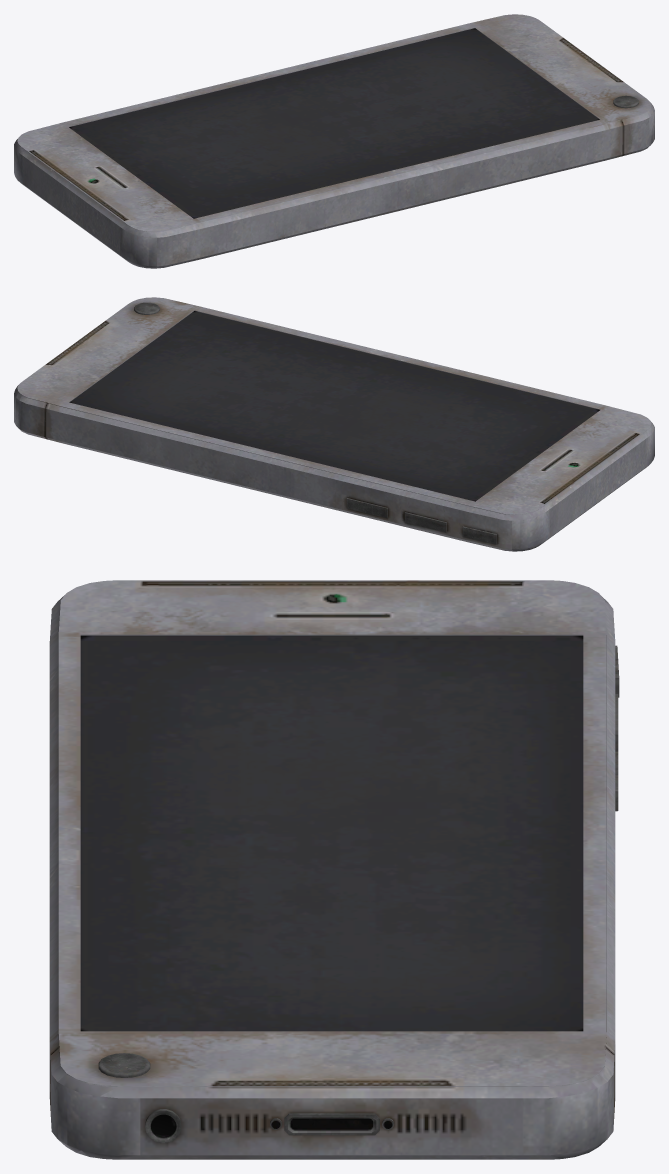
Rendered from phone_theta_audio_log.dae.
3 renders of one model, top to bottom at view 1: azimuth 30°, elevation 25°; view 2: azimuth 150°, elevation 25°; view 3: azimuth 270°, elevation 25°, orthographic. The views are drawn at different scales.
Visible parts, largest first — view 1: screen, phone_theta; view 2: screen, phone_theta; view 3: screen, phone_theta.
Part boxes in pixels (x1,y1,x2,y2): screen: (69, 28, 599, 218); phone_theta: (14, 14, 654, 268); screen: (69, 311, 599, 501); phone_theta: (14, 297, 654, 551); screen: (80, 635, 583, 1031); phone_theta: (49, 580, 619, 1159).
Bounding box in the file's own units: 0.3515 × 0.0273 × 0.1645.
